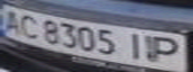0: (75, 24, 96, 53)
3: (57, 20, 78, 51)
5: (96, 26, 121, 57)
8: (39, 16, 63, 46)
A: (0, 7, 27, 35)
C: (15, 11, 45, 39)
I: (121, 29, 151, 61)
P: (148, 34, 187, 65)
